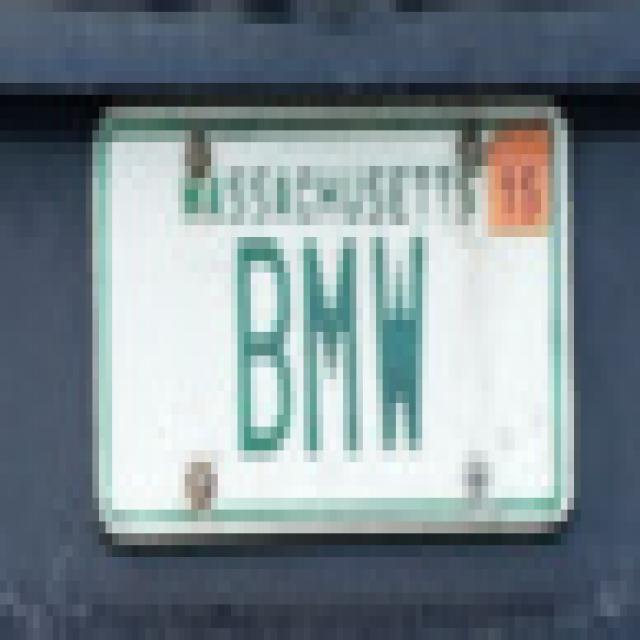B: (229, 206, 301, 478)
M: (294, 201, 368, 474)
W: (364, 198, 436, 484)
